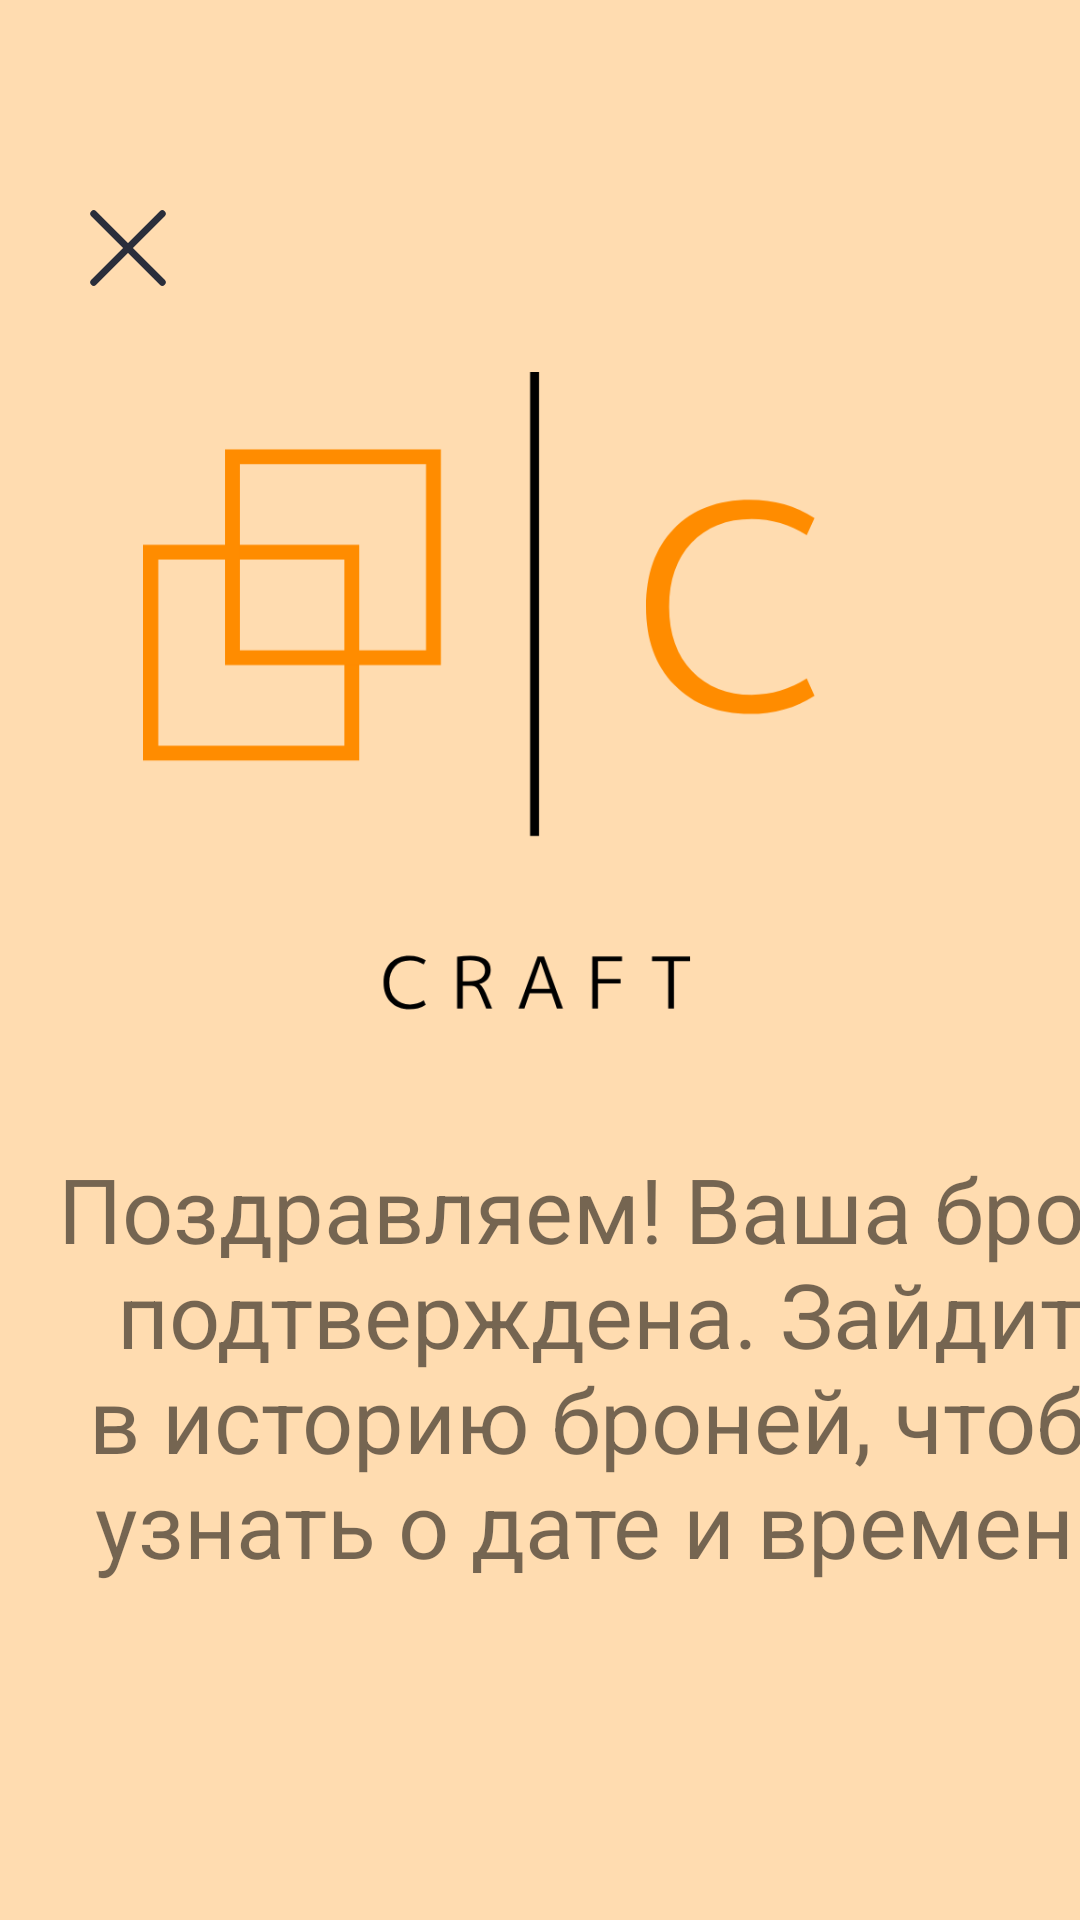

Where to tap for icons on this 1080 x 1920 app screen, as (x,y):
cross: (128,248)
